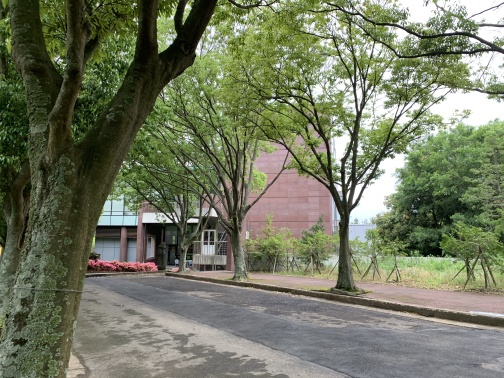Museum: (105, 183, 269, 279)
